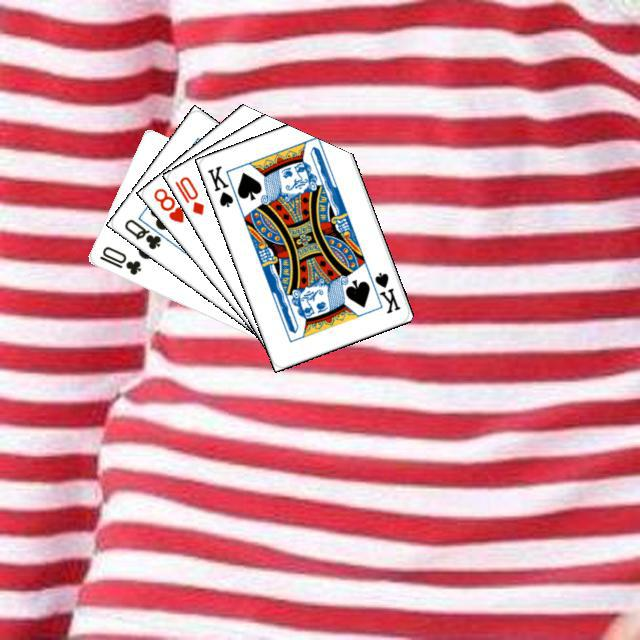10c: (94, 241, 143, 277)
10d: (170, 171, 206, 217)
8h: (149, 183, 186, 225)
Ks: (363, 267, 402, 315), (202, 160, 235, 209)
Qc: (119, 211, 171, 251)
